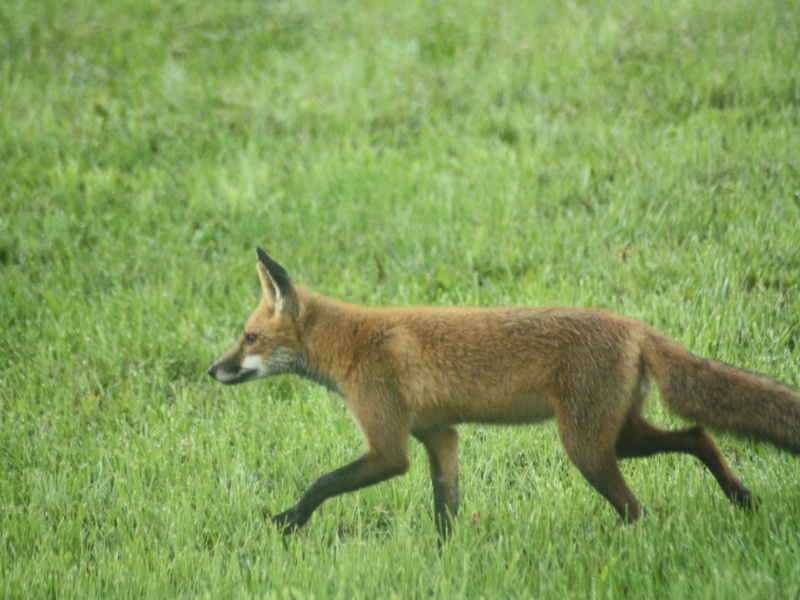fox: (206, 245, 800, 533)
